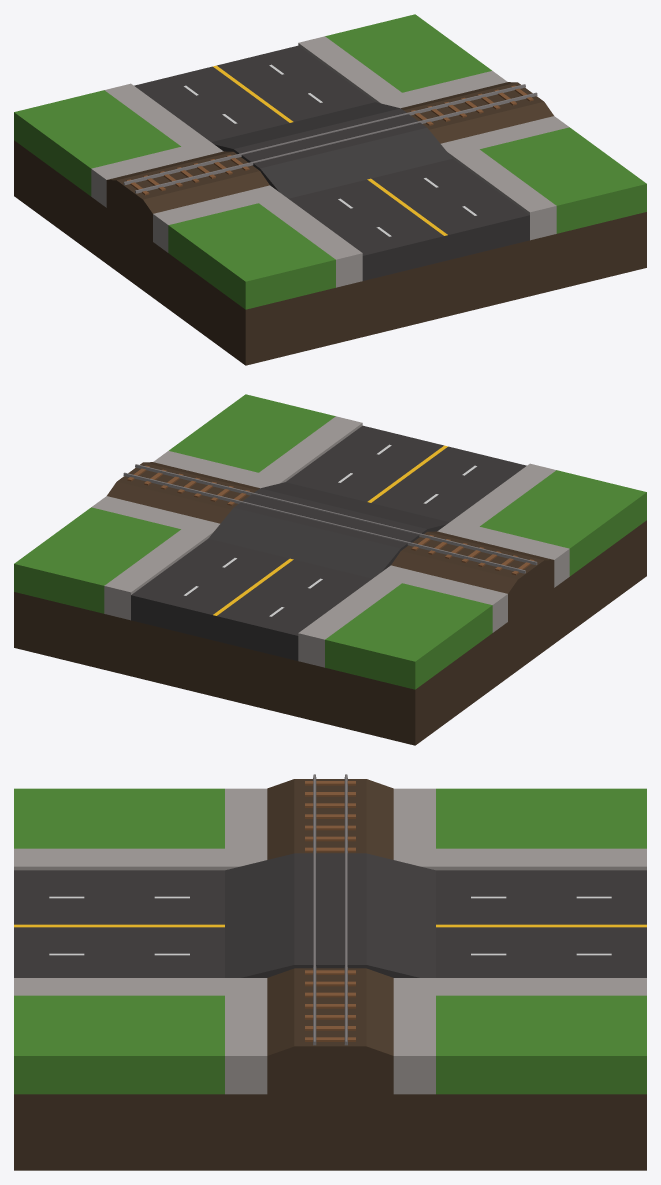
Rendered from tiles-tile-rail-mainroad-crossing.glb.
3 renders of one model, top to bottom at view 1: azimuth 30°, elevation 25°; view 2: azimuth 150°, elevation 25°; view 3: azimuth 270°, elevation 25°, orthographic. The views are drawn at different scales.
Visible parts, largest first — view 1: tile-rail-mainroad-crossing; view 2: tile-rail-mainroad-crossing; view 3: tile-rail-mainroad-crossing.
Part boxes in pixels (box(x1,y1,x2,y2)): tile-rail-mainroad-crossing: box(14, 14, 646, 365); tile-rail-mainroad-crossing: box(14, 394, 646, 745); tile-rail-mainroad-crossing: box(14, 774, 646, 1170).
Size of the model in its own units: 30 by 6.75 by 30.
